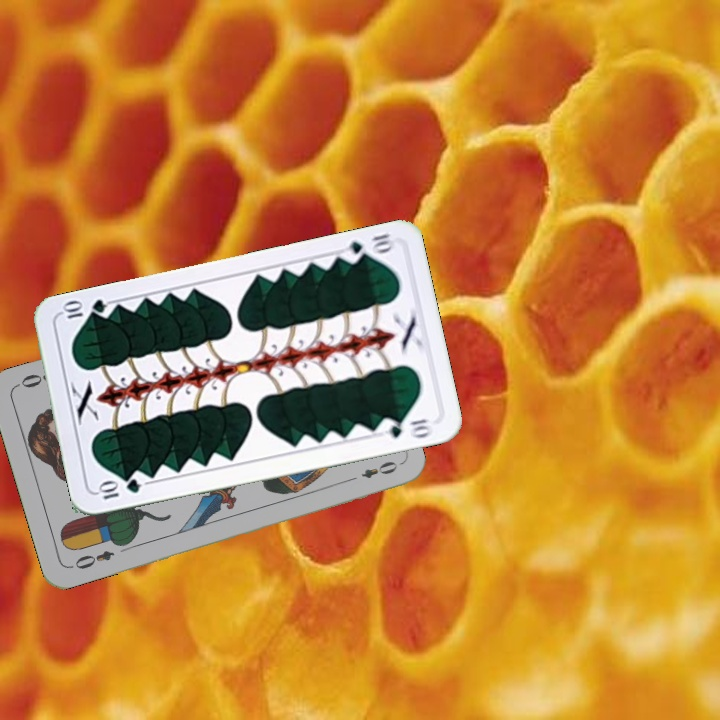EO: (66, 546, 117, 572)
G10: (338, 229, 397, 266), (94, 475, 143, 502)
